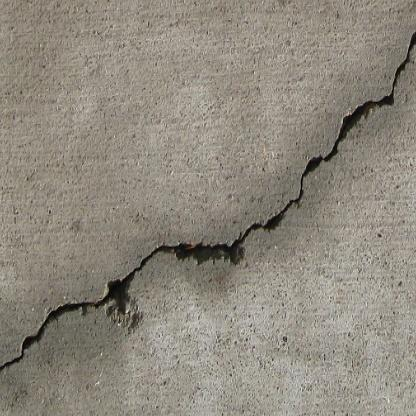Cracks: (0, 14, 416, 379)
